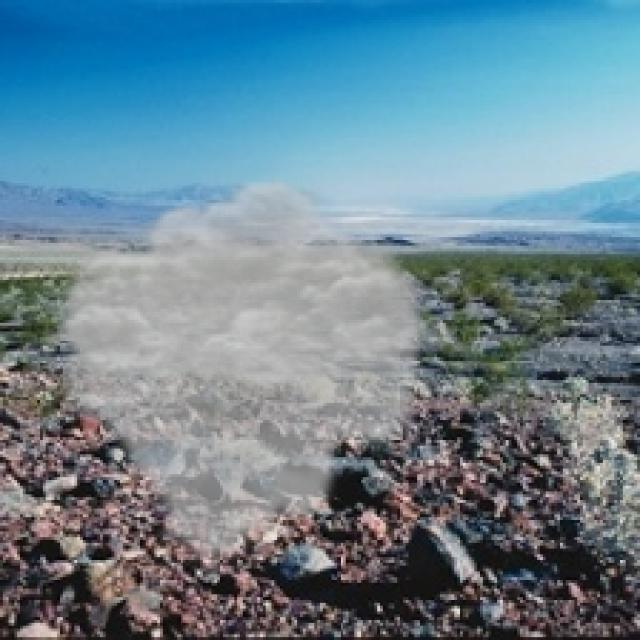smoke: (46, 174, 437, 569)
